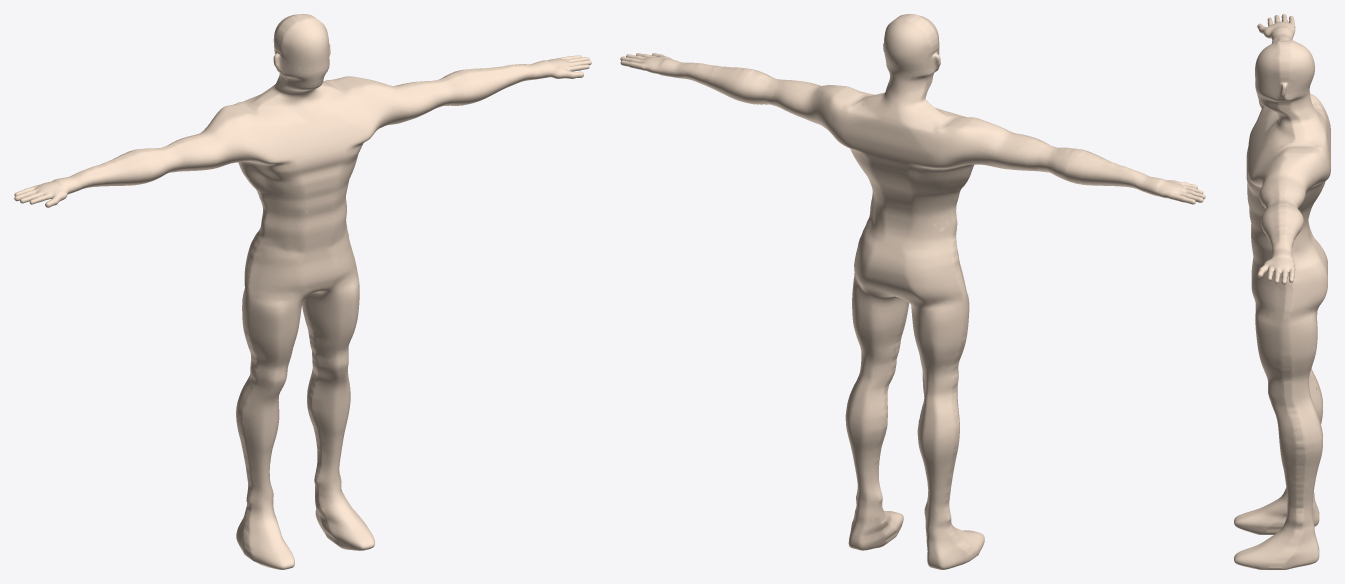
The model's file is male-depth-body.glb.
3 views of the same model, side by side, from view 1: azimuth 30°, elevation 25°; view 2: azimuth 150°, elevation 25°; view 3: azimuth 270°, elevation 25° (orthographic). The views are drawn at different scales.
Parts seen in each view (by area): view 1: geometry_0; view 2: geometry_0; view 3: geometry_0.
Boxes of the visible parts, x1=… form: geometry_0: x1=14, y1=14, x2=591, y2=569; geometry_0: x1=620, y1=14, x2=1205, y2=569; geometry_0: x1=1234, y1=14, x2=1330, y2=569.
Size of the model in its own units: 2.03 by 1.79 by 0.3112.
